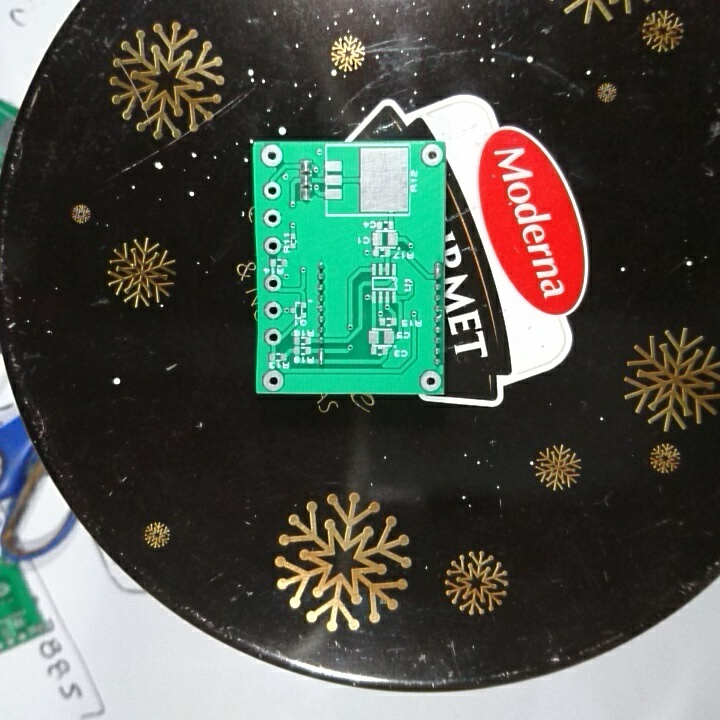F: (258, 142, 285, 172), (419, 142, 444, 168), (262, 366, 287, 392), (418, 368, 442, 393), (262, 272, 284, 295), (262, 233, 282, 256), (262, 180, 281, 203), (262, 209, 282, 229), (262, 300, 282, 320), (264, 326, 283, 346)
P: (431, 260, 444, 280), (315, 346, 328, 366)
